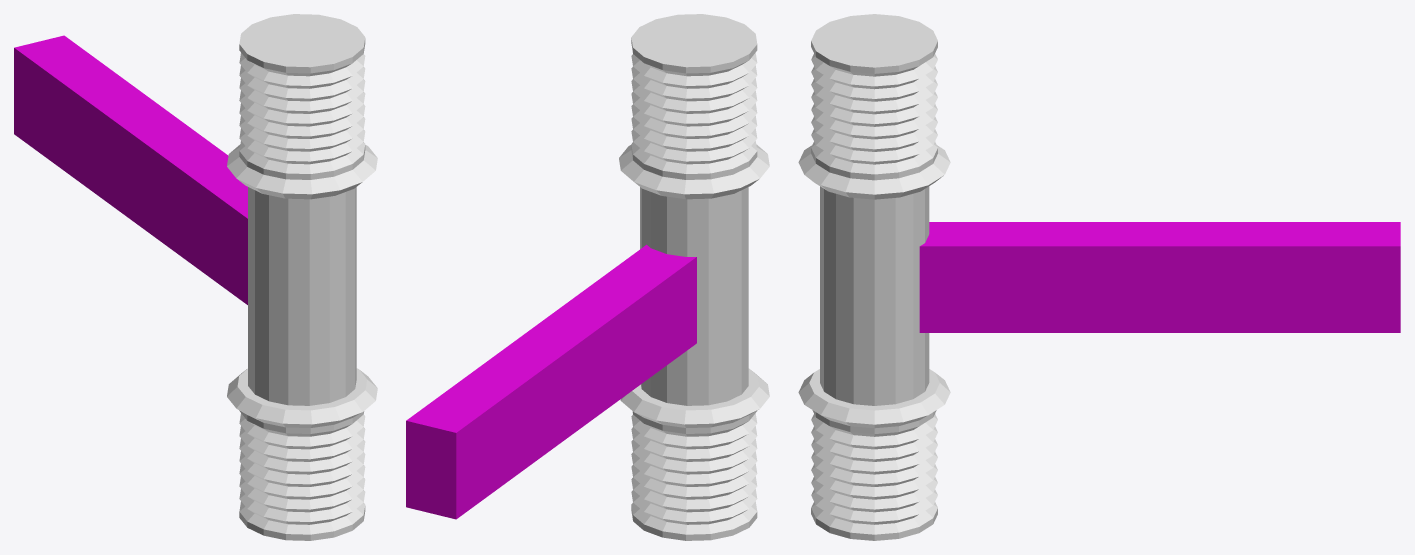
File: martillo.fbx
The picture shows the model from 3 angles, left to right: view 1: azimuth 30°, elevation 25°; view 2: azimuth 150°, elevation 25°; view 3: azimuth 270°, elevation 25°; orthographic projection.
Visible parts, largest first — view 1: Cylinder; view 2: Cylinder; view 3: Cylinder.
Part boxes in pixels (x1=…): Cylinder: x1=14, y1=14, x2=377, y2=540; Cylinder: x1=406, y1=14, x2=769, y2=540; Cylinder: x1=798, y1=14, x2=1400, y2=540.
Bounding box in the file's own units: 121 × 416 × 479.
